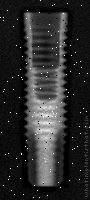Neodent: (21, 11, 69, 188)
